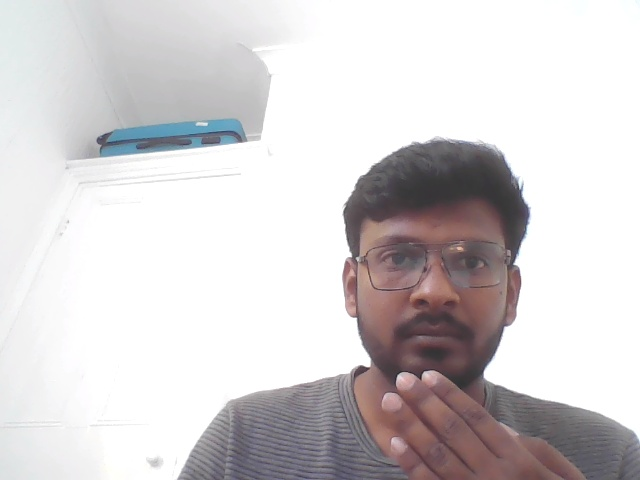Thank You: (318, 338, 581, 480)
